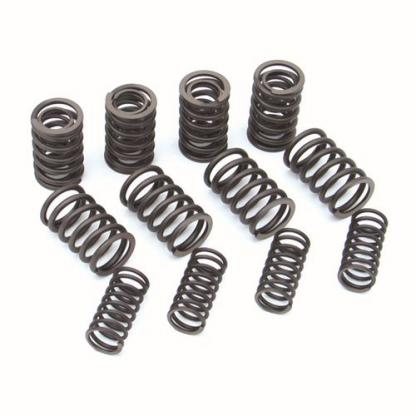FOD: (37, 183, 140, 277), (117, 163, 214, 257), (283, 124, 376, 220), (202, 146, 299, 238), (82, 266, 150, 355), (245, 56, 307, 151), (166, 244, 228, 337), (251, 225, 311, 317), (177, 66, 232, 164), (30, 96, 86, 191), (102, 82, 159, 173), (336, 207, 390, 294)
